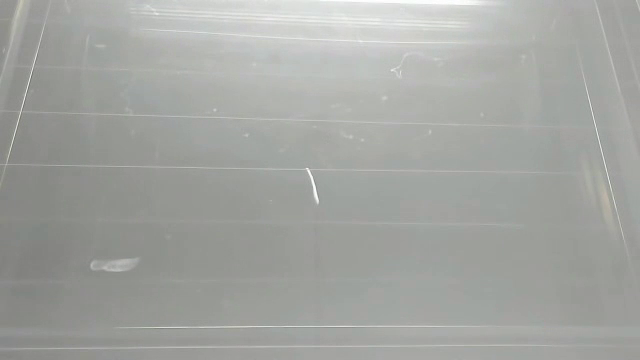alpha: (86, 254, 145, 275), (303, 162, 325, 209)
